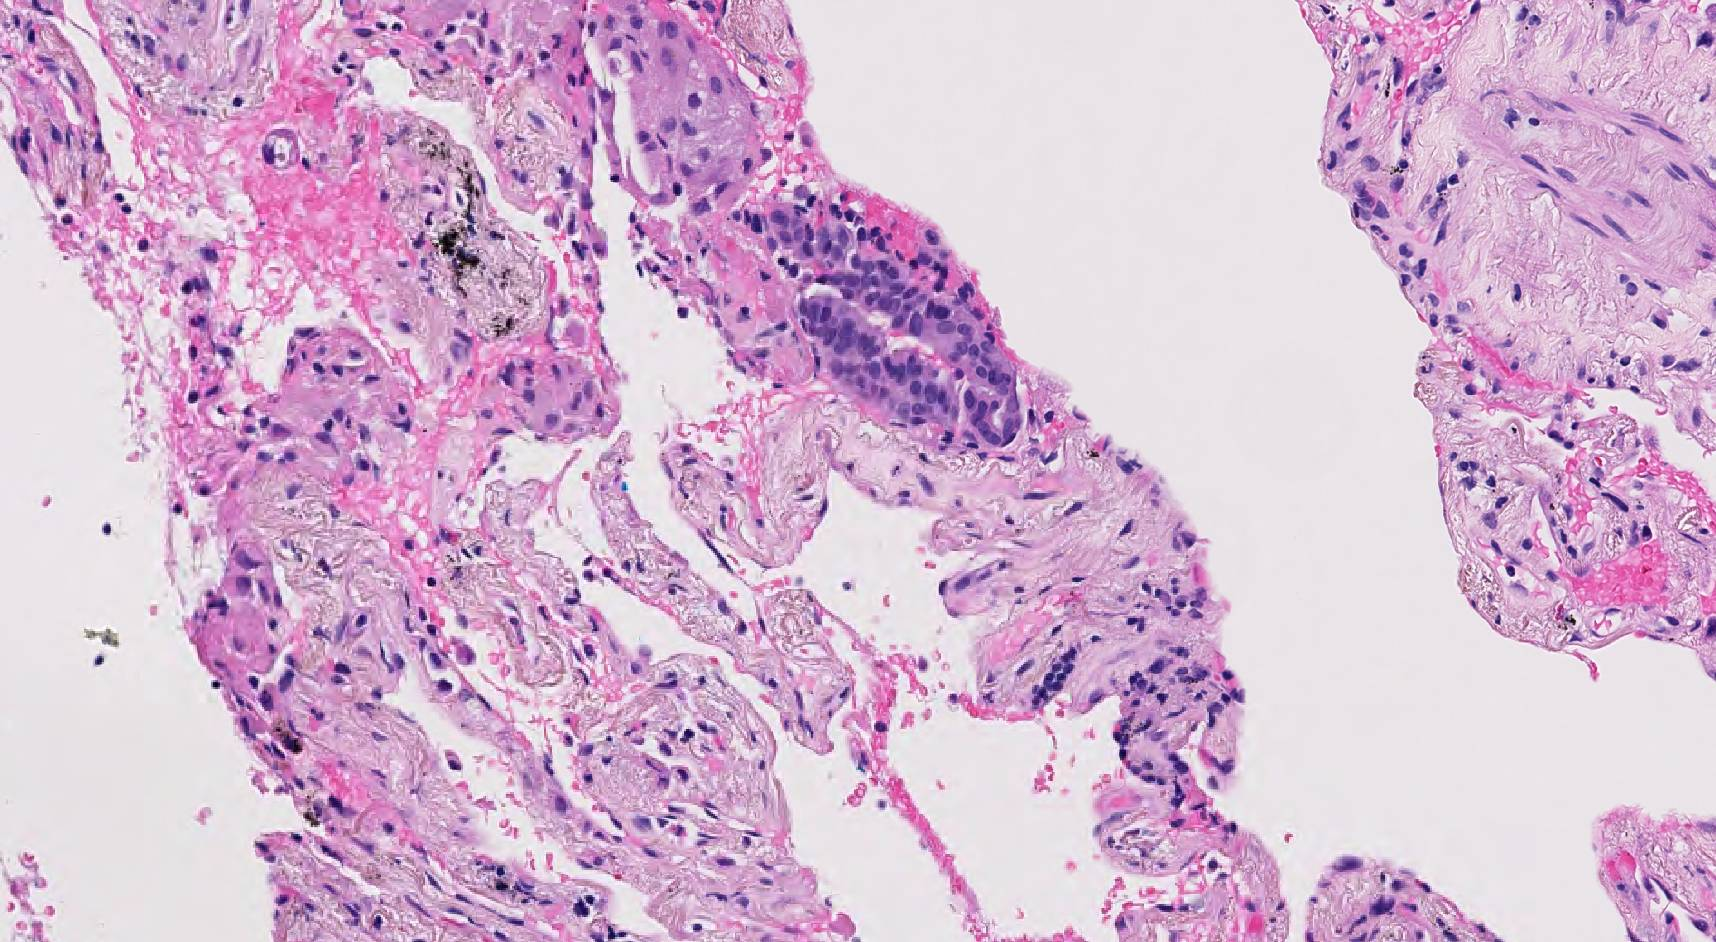stas: (773, 204, 1029, 452)
